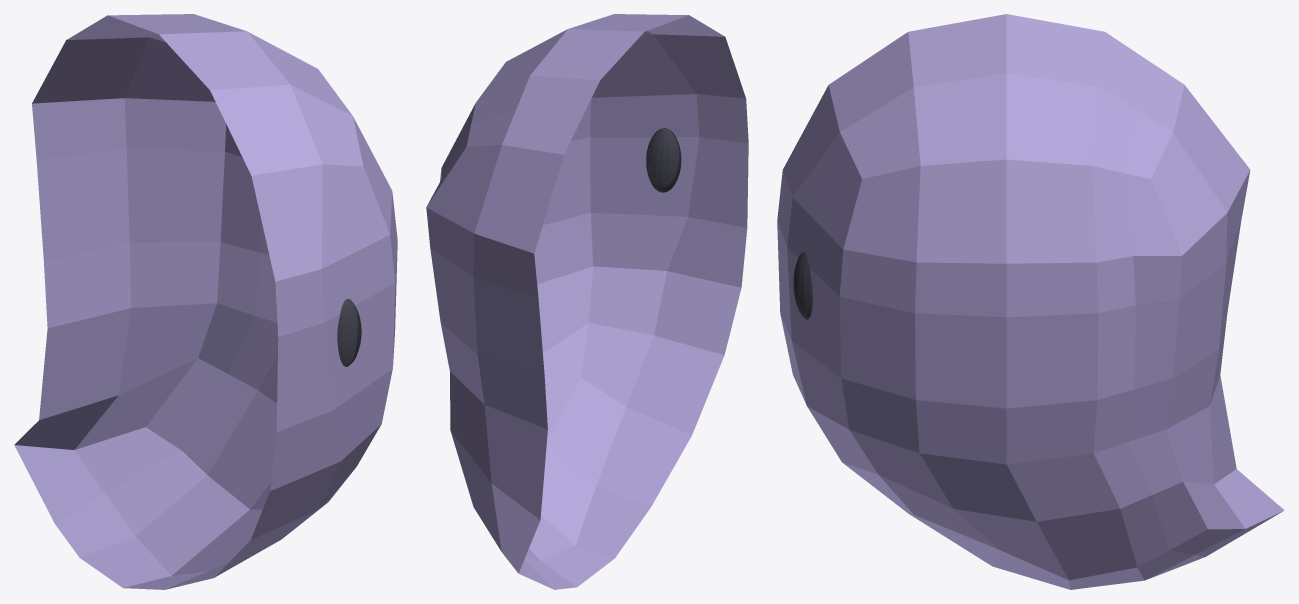
Rendered from user.gltf.
The picture shows the model from 3 angles, left to right: view 1: azimuth 30°, elevation 25°; view 2: azimuth 150°, elevation 25°; view 3: azimuth 270°, elevation 25°; orthographic projection. The views are drawn at different scales.
Visible parts, largest first — view 1: 立方体, 球体; view 2: 立方体, 球体; view 3: 立方体, 球体.
Part boxes in pixels (x1,y1,x2,y2): 立方体: [14, 14, 397, 589]; 球体: [337, 298, 361, 366]; 立方体: [426, 14, 748, 589]; 球体: [646, 128, 681, 192]; 立方体: [777, 14, 1284, 589]; 球体: [793, 252, 812, 319].
Bounding box in the file's own units: 0.829 × 2.23 × 1.84.
